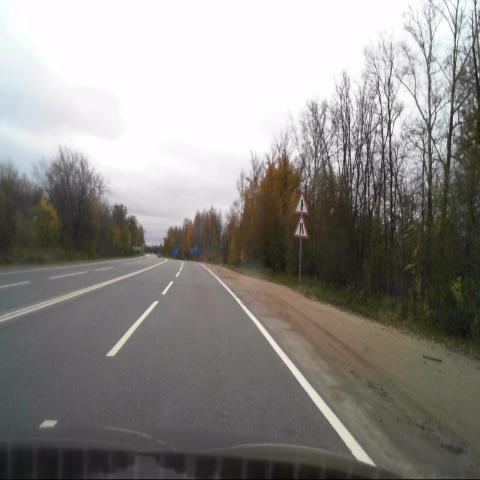1_20_2: (293, 214, 307, 238)
2_3_2: (295, 190, 308, 214)
